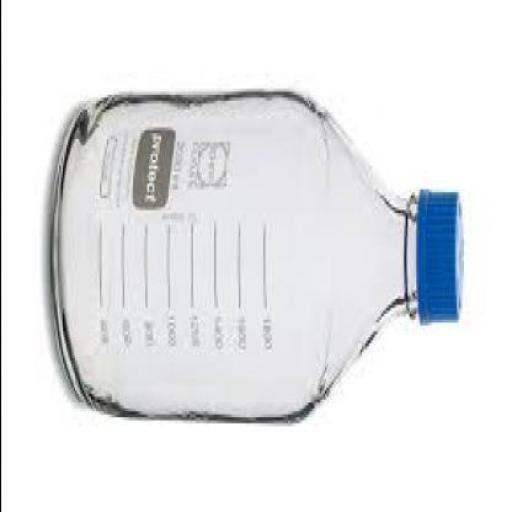plastic: (49, 88, 463, 424), (416, 187, 462, 323)
